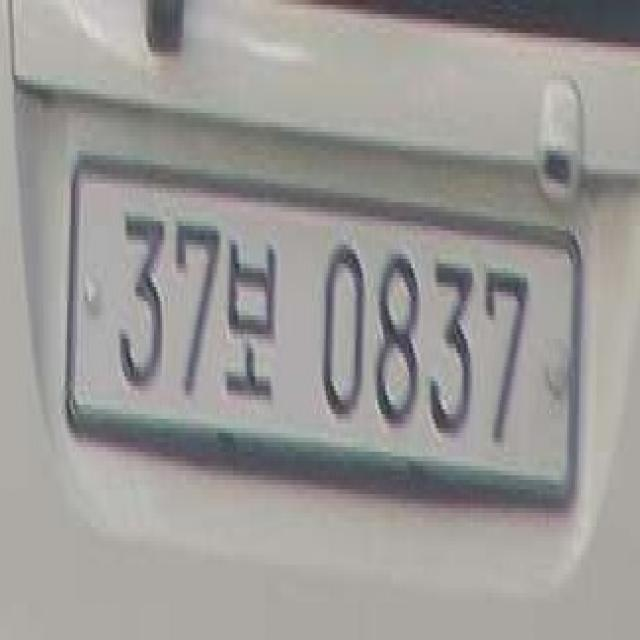0: (320, 240, 365, 414)
3: (116, 212, 168, 390), (429, 258, 474, 438)
7: (480, 264, 531, 456), (170, 216, 219, 400)
8: (375, 240, 421, 438)
bo: (223, 240, 277, 400)
license_plate: (65, 155, 581, 532)
